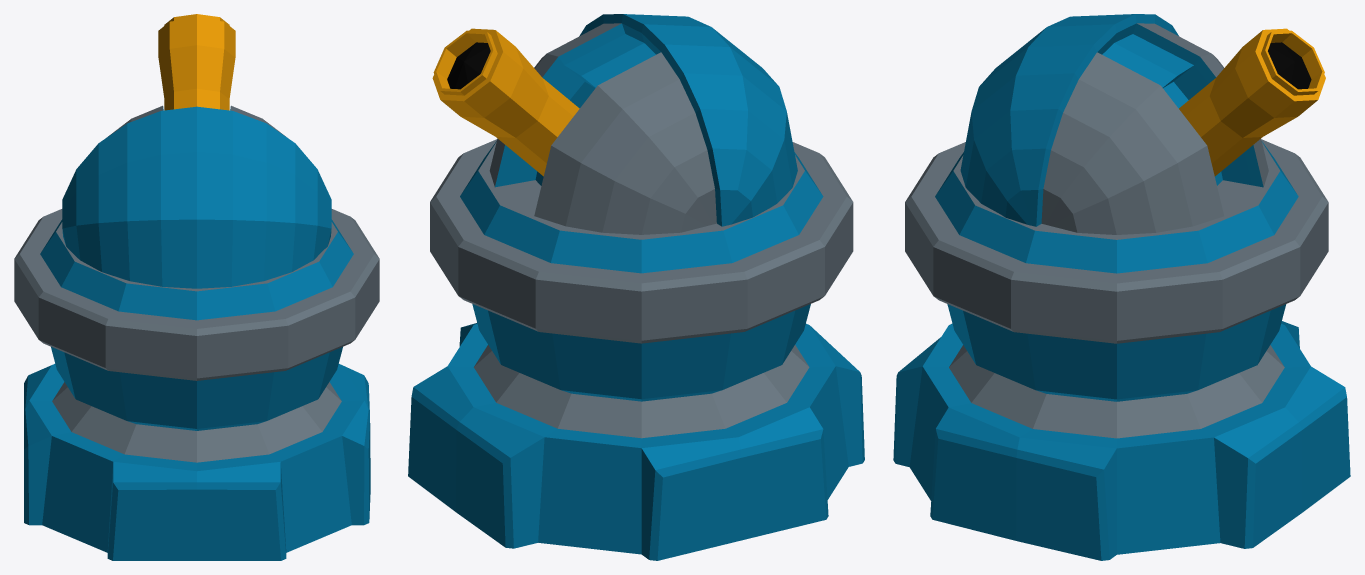
File: Observatory.fbx
3 renders of one model, left to right at view 1: azimuth 30°, elevation 25°; view 2: azimuth 150°, elevation 25°; view 3: azimuth 270°, elevation 25°, orthographic. The views are drawn at different scales.
Visible parts, largest first — view 1: Observatory; view 2: Observatory; view 3: Observatory.
Boxes of the visible parts, x1,y1,x2,y2 form: Observatory: (14,14,379,560); Observatory: (408,14,864,560); Observatory: (893,14,1350,560).
Bounding box in the file's own units: 7.77 × 9.13 × 7.99.
